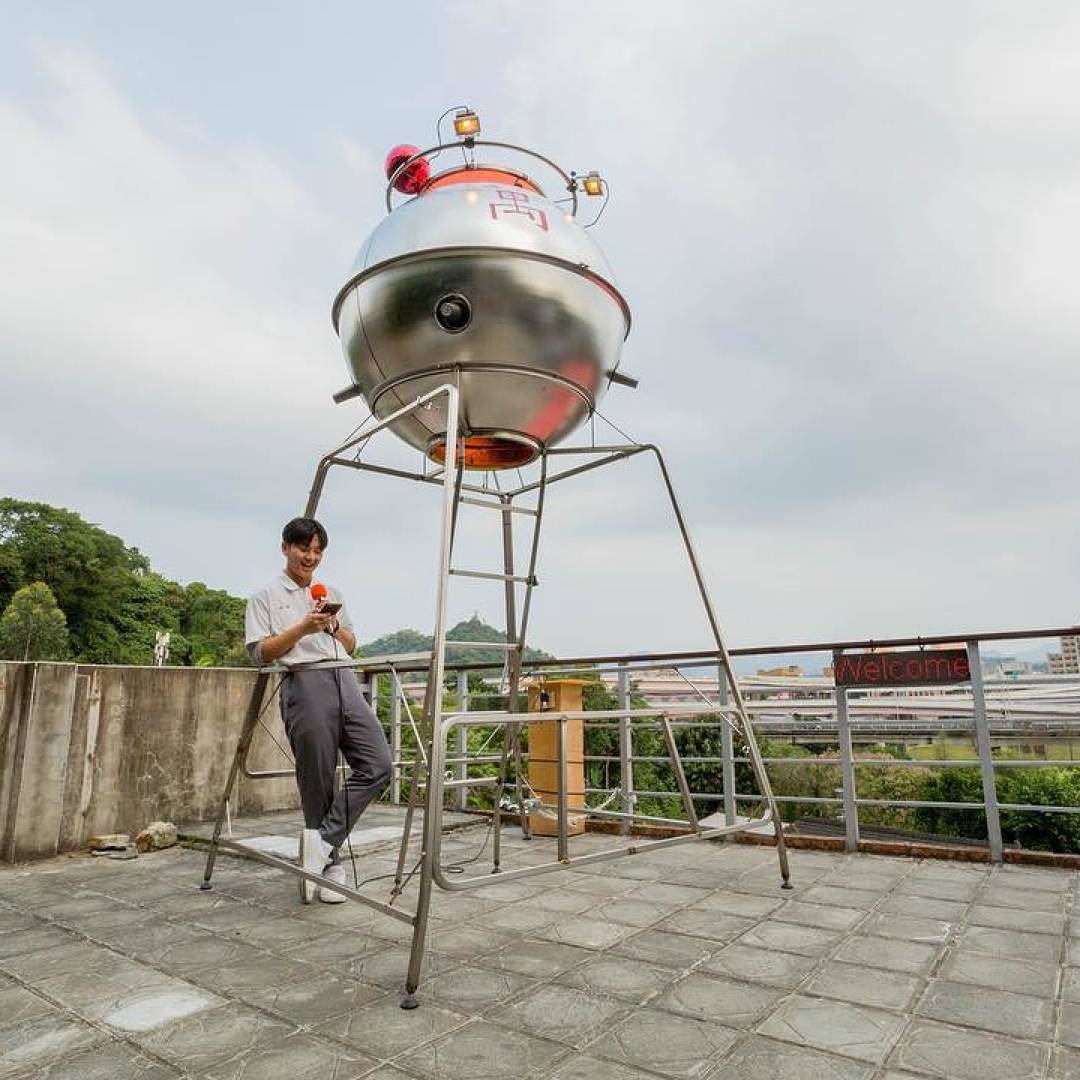people: (249, 518, 399, 902)
